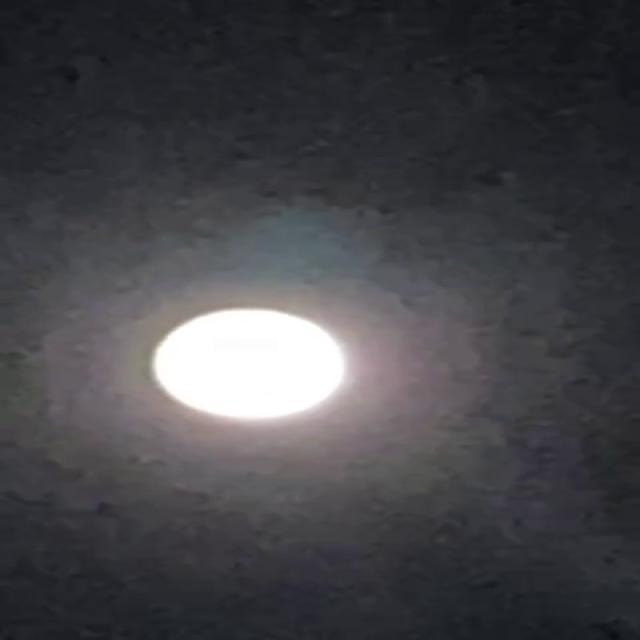moon: (153, 298, 391, 442)
